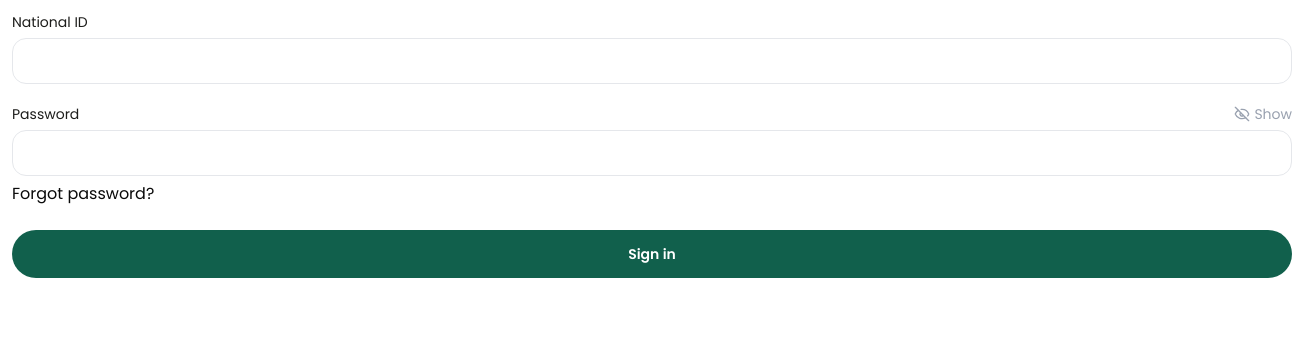
PatientSignInForm › blocks submit and shows validation errors for empty fields
Click the button "Sign in". click: coordinates (652, 254)
box: 12,230 -> 1292,278
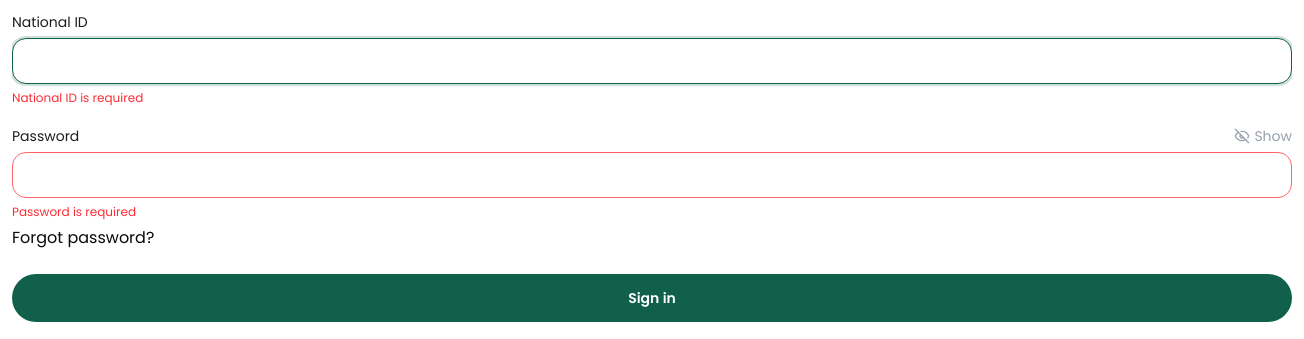
expect the text "National ID is required" is shown: met, box 12,89 -> 143,106
